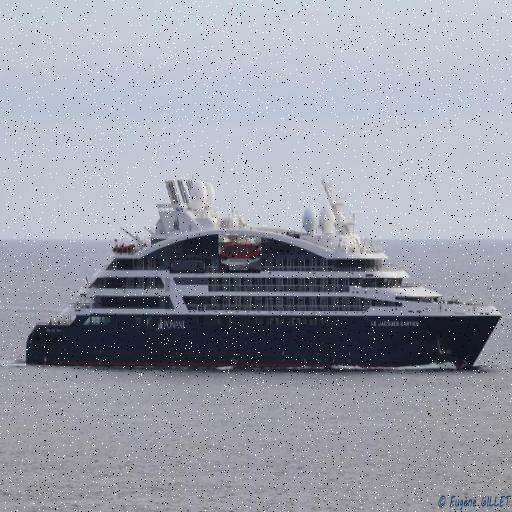cruises: (21, 170, 505, 381)
